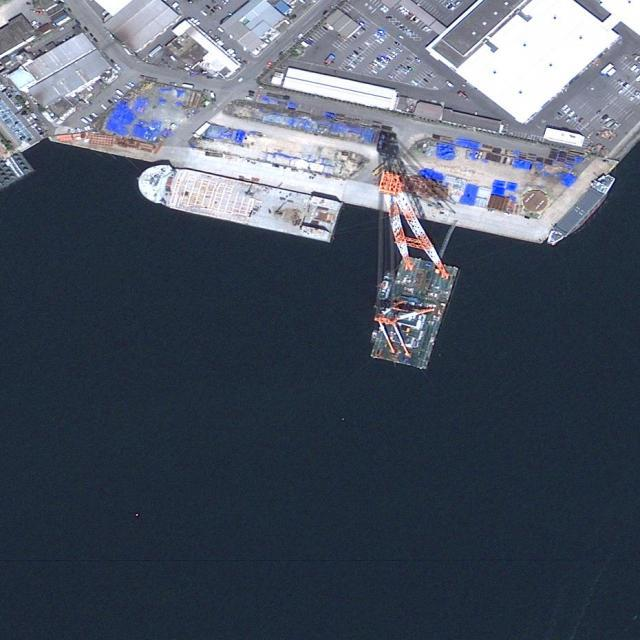Cargo: (129, 157, 345, 245)
Other Ship: (542, 170, 619, 255)
